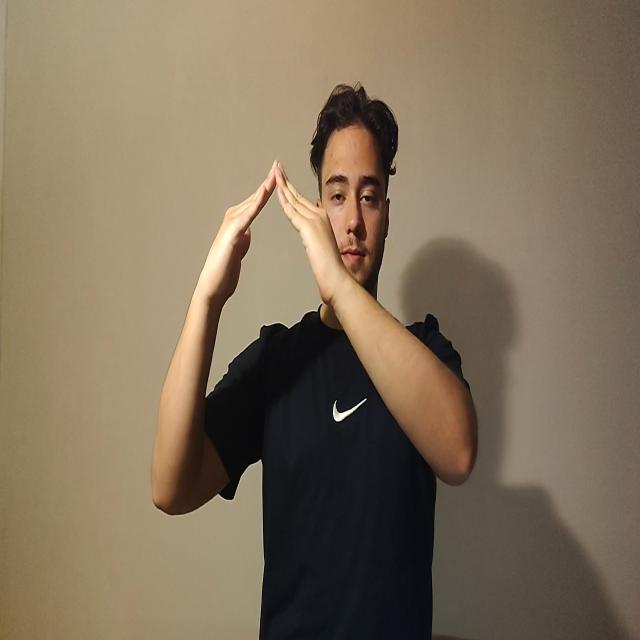house: (187, 162, 346, 306)
